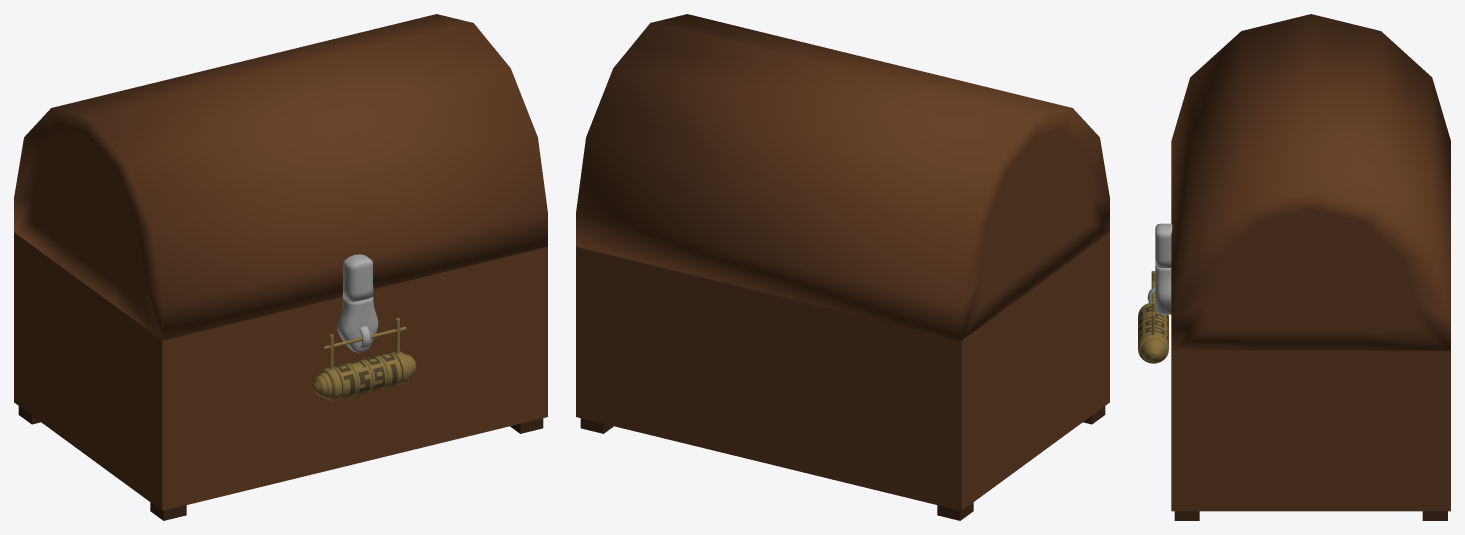
The model's file is Cofre+Candado+Llave.fbx.
The picture shows the model from 3 angles, left to right: view 1: azimuth 30°, elevation 25°; view 2: azimuth 150°, elevation 25°; view 3: azimuth 270°, elevation 25°; orthographic projection. The views are drawn at different scales.
Visible parts, largest first — view 1: CofreParte1, CofreParte2, BaseCandadoNumérico; view 2: CofreParte1, CofreParte2; view 3: CofreParte1, CofreParte2, BaseCandadoNumérico.
Boxes of the visible parts, x1,y1,x2,y2 form: CofreParte1: [14, 14, 547, 340]; CofreParte2: [14, 232, 547, 520]; BaseCandadoNumérico: [313, 318, 416, 400]; CofreParte1: [576, 14, 1109, 340]; CofreParte2: [576, 232, 1109, 520]; CofreParte1: [1155, 14, 1450, 350]; CofreParte2: [1147, 265, 1450, 520]; BaseCandadoNumérico: [1138, 271, 1168, 363].
Bounding box in the file's own units: 32.4 × 28.24 × 24.18.
